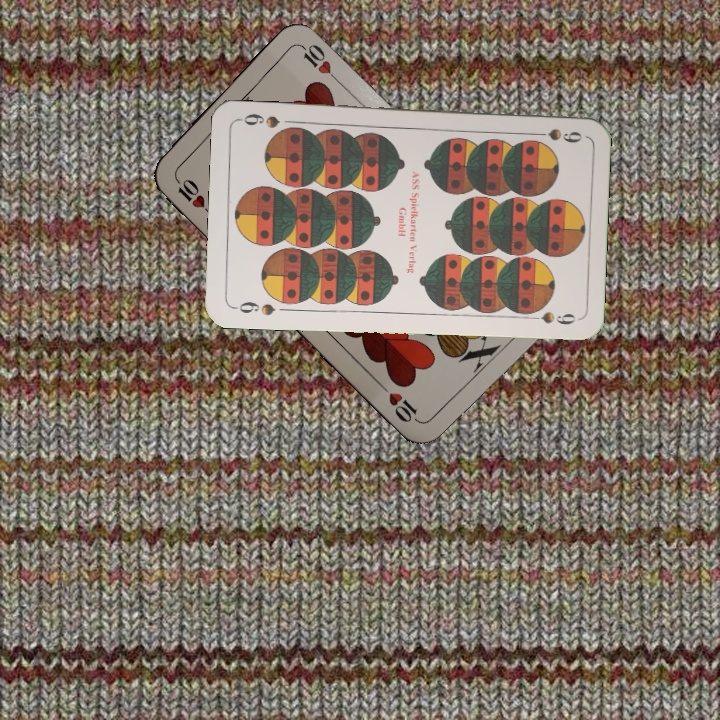H10: (171, 173, 216, 220)
S9: (526, 124, 584, 146), (229, 297, 278, 318)
